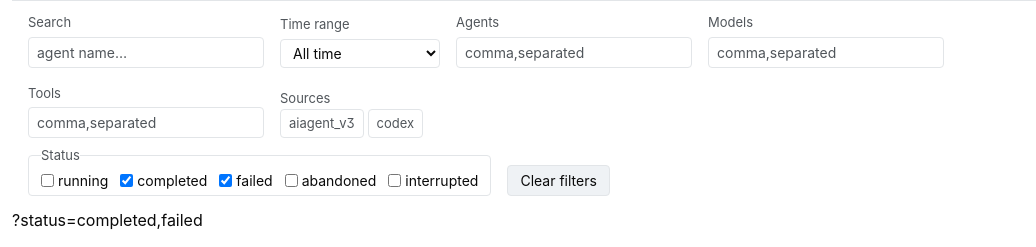
Test case: FilterBar › unchecking a status box removes it
This screenshot has width=1036, height=247.
Click the checkbox labelled "completed": [127, 180] box x1=120 y1=174 x2=133 y2=186
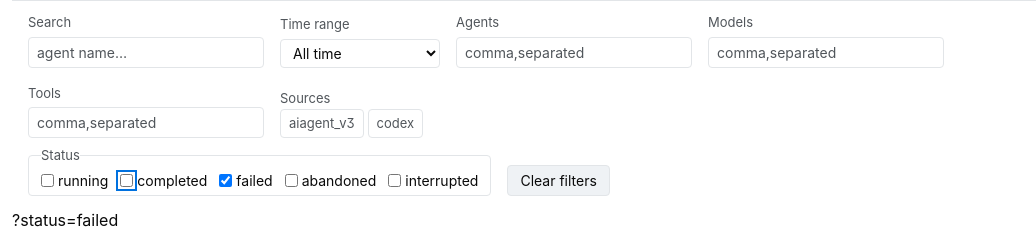
Check: the element with test id "loc" does not show "completed"
Check: the text with test id "loc" shows "status=failed", box x1=12 y1=210 x2=118 y2=230
